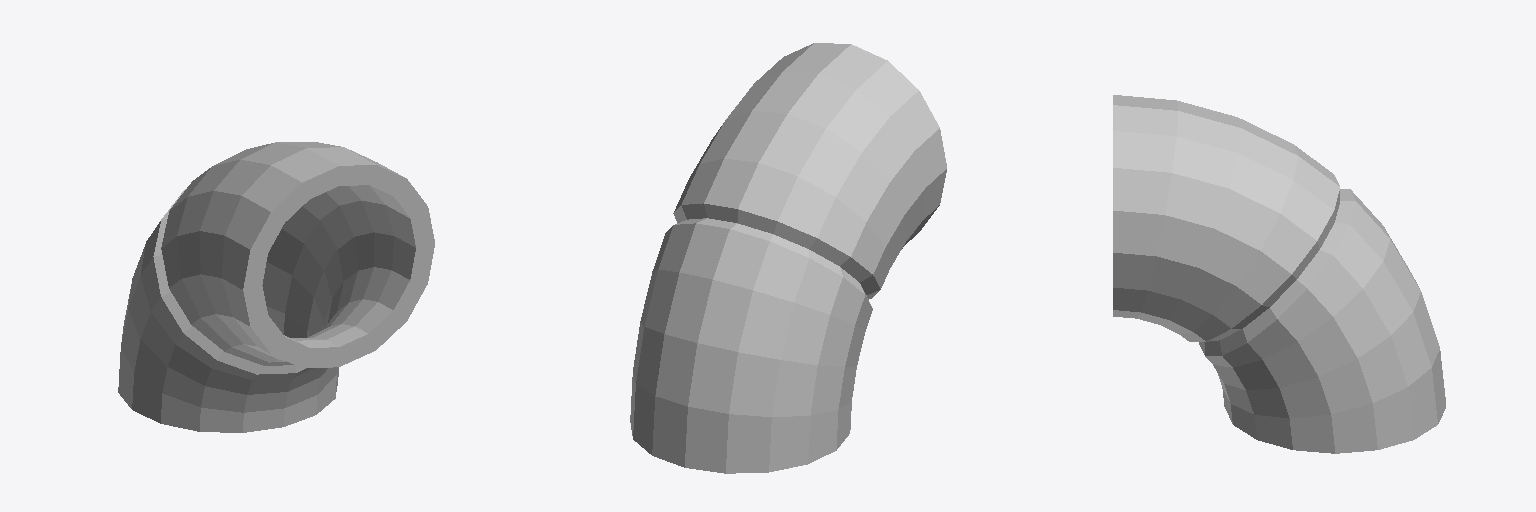
Rendered from pipe_90_B_yellow.obj.
3 views of the same model, side by side, from view 1: azimuth 30°, elevation 25°; view 2: azimuth 150°, elevation 25°; view 3: azimuth 270°, elevation 25° (orthographic).
Visible parts, largest first — view 1: pipe_90_B_yellow; view 2: pipe_90_B_yellow; view 3: pipe_90_B_yellow.
Part boxes in pixels (bbox=[...]): pipe_90_B_yellow: bbox=[118, 142, 434, 432]; pipe_90_B_yellow: bbox=[630, 43, 946, 473]; pipe_90_B_yellow: bbox=[1113, 95, 1445, 453].
Size of the model in its own units: 2 by 3 by 3.